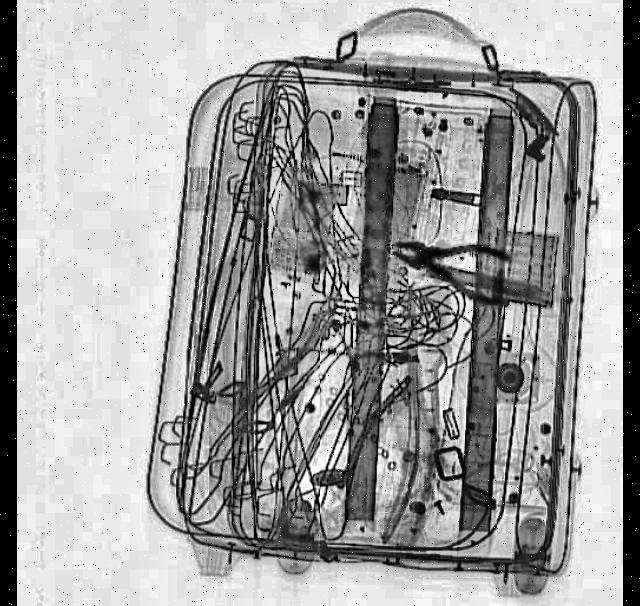Pliers: (386, 219, 514, 306)
